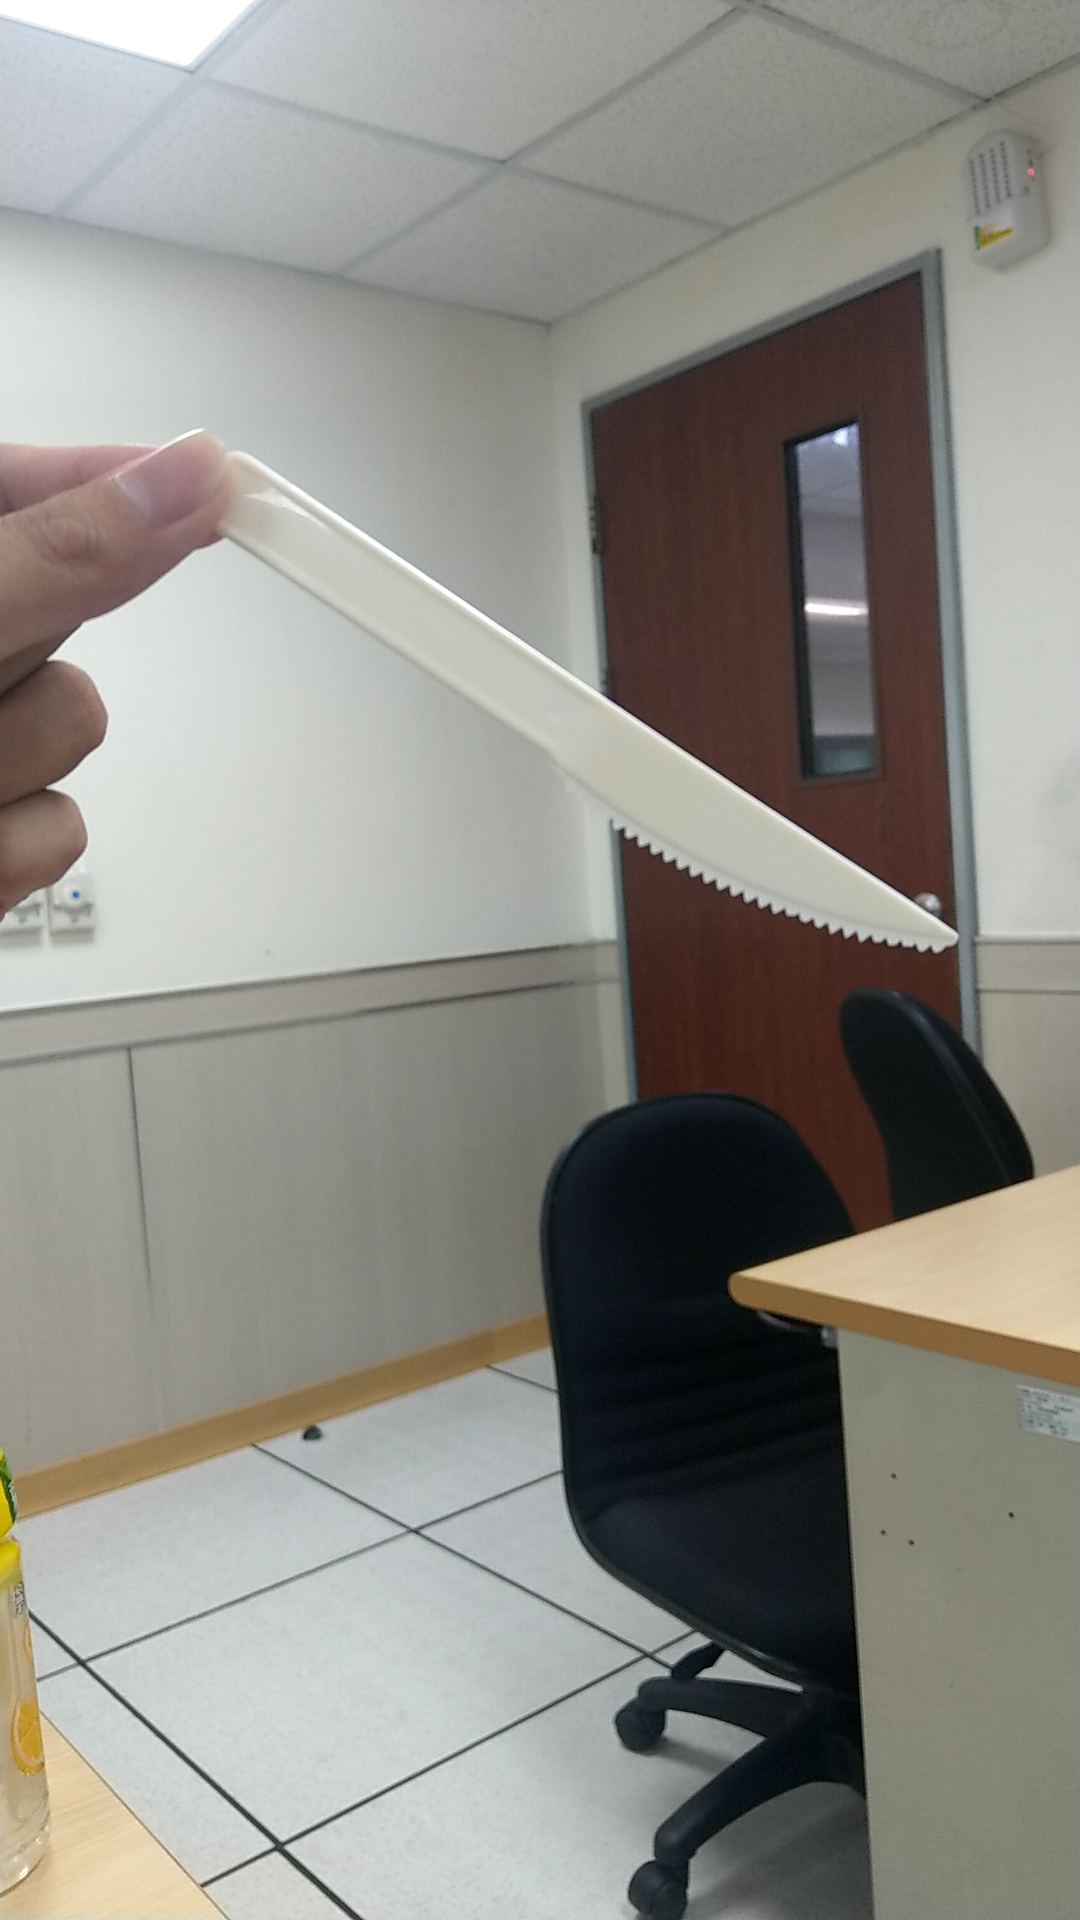knife: (215, 458, 975, 975)
